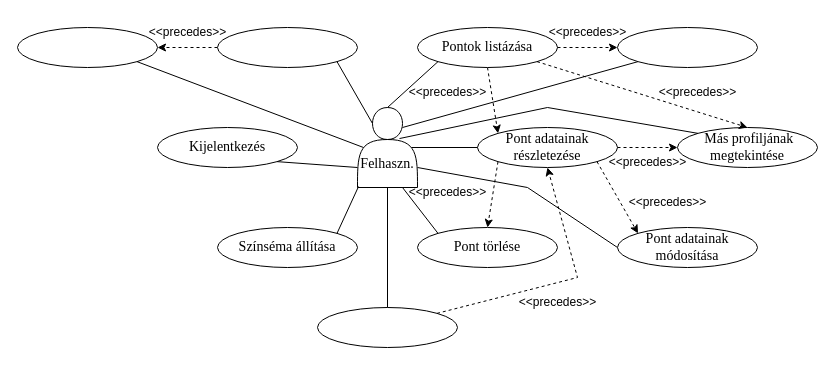
Image size: 835x365. Some labels were removed from this diagram. The shapes that lost their labels are listed below. From the top down, each one's centre as x and y in pixels, then its label:
At [87,47]: "Saját profil szerksztése".
At [287,47]: "Saját profil megtekintése".
At [687,47]: "Pont bejelentése".
At [387,327]: "Térkép megtekintése".
